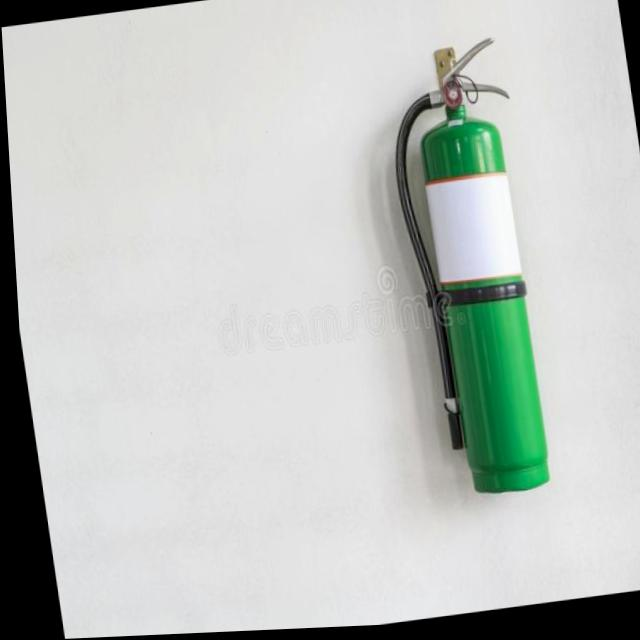FireExtinguisher: (371, 27, 565, 510)
